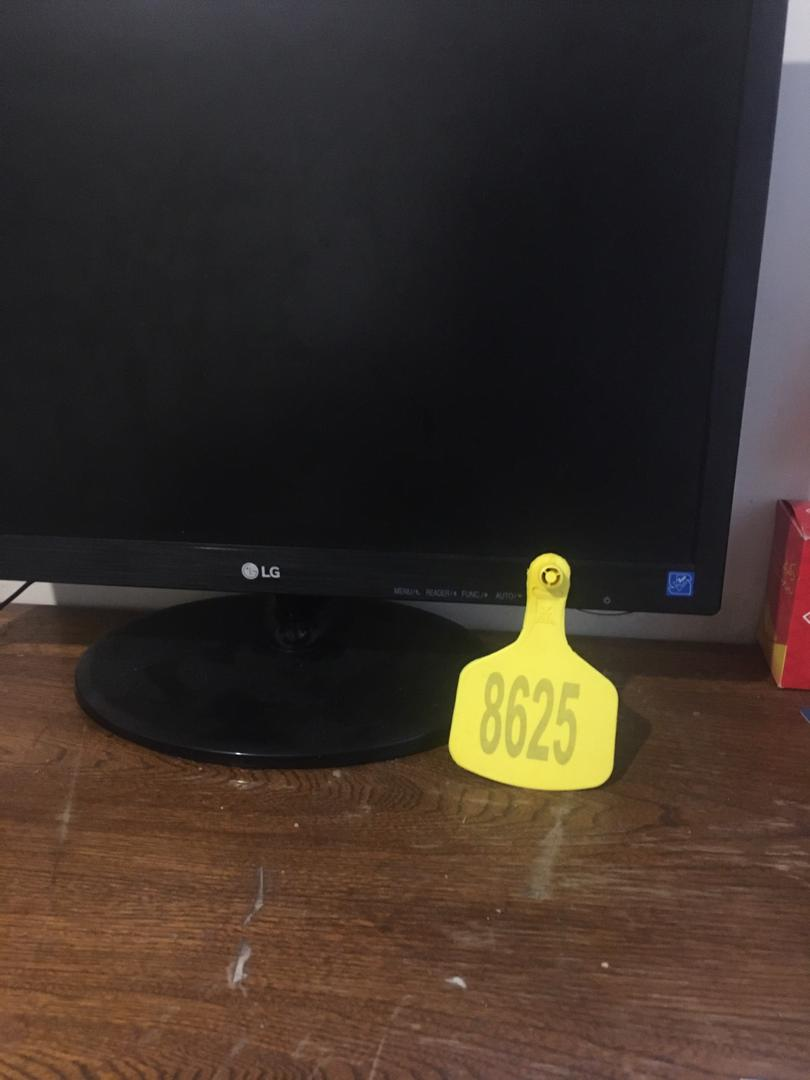digit: (479, 668, 580, 764)
